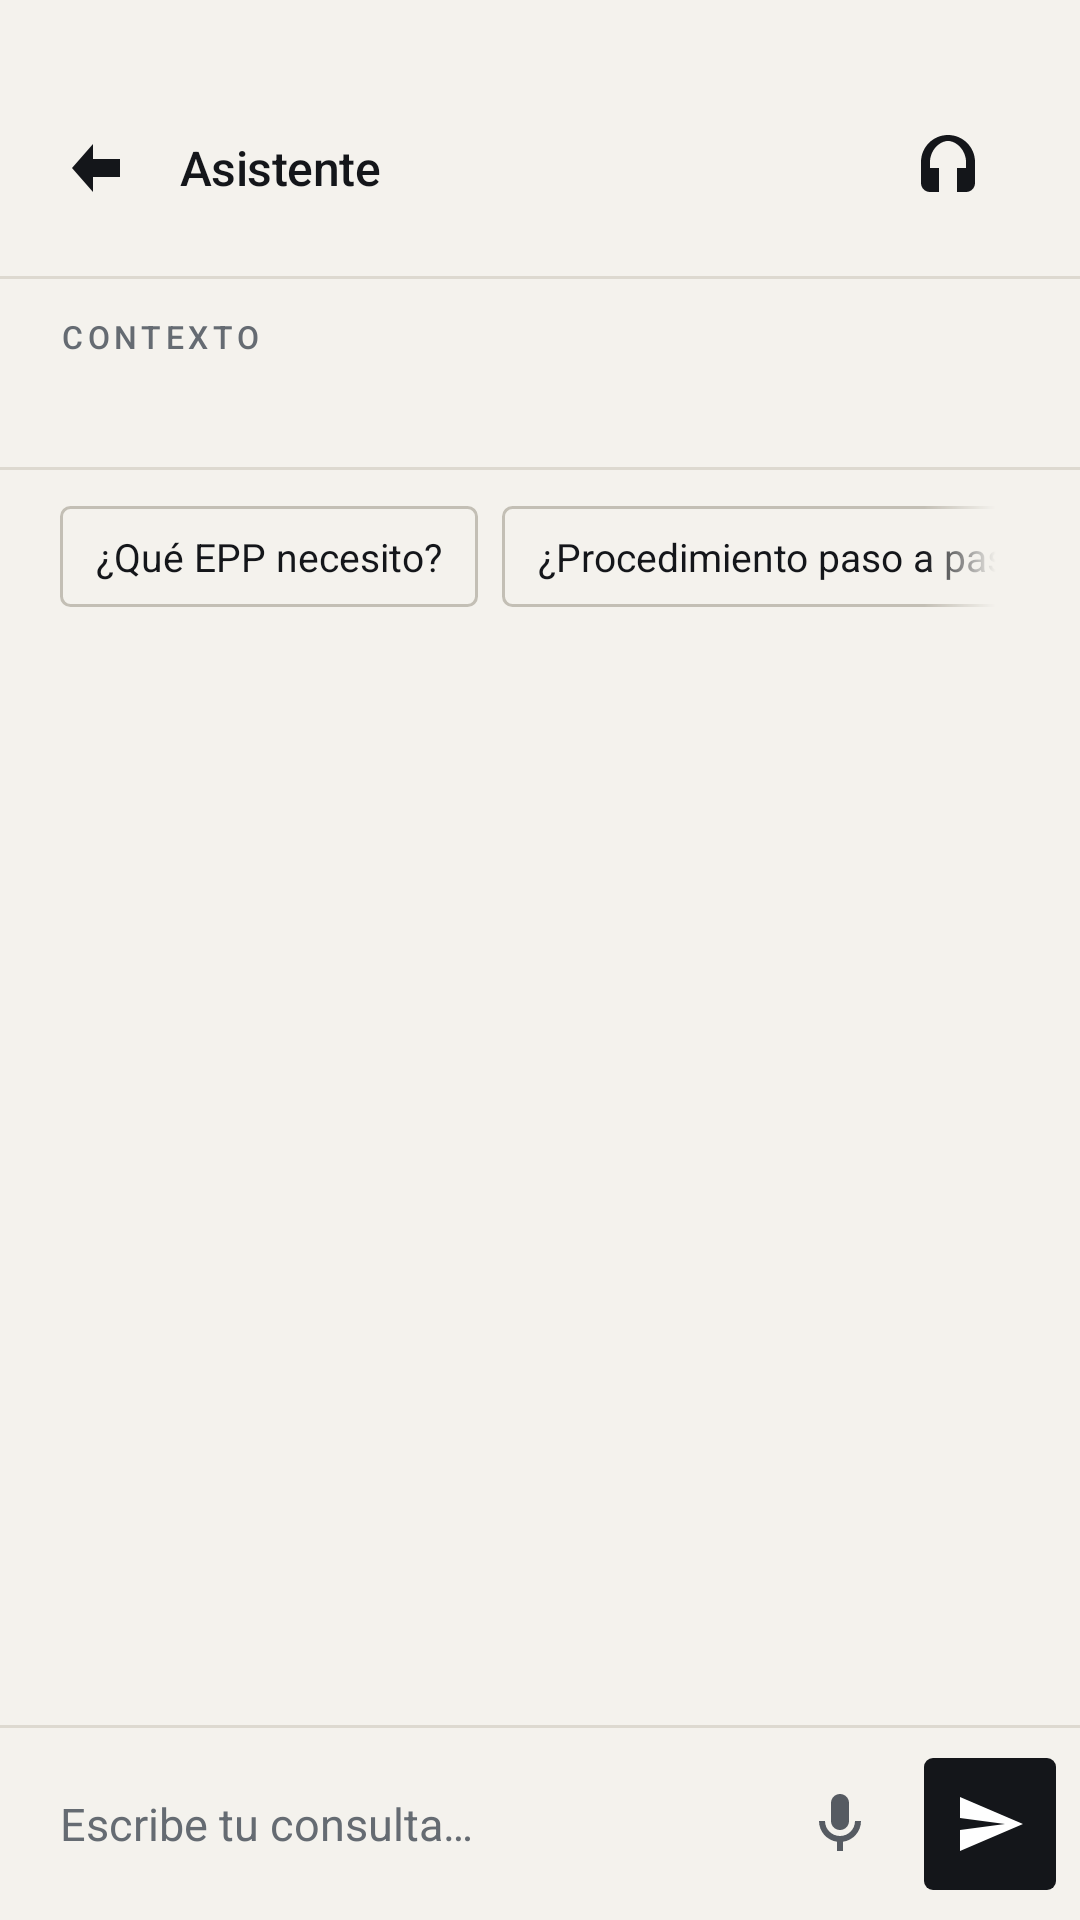

Locate icon controls on the screen. Image size 1080px×1920px, boxes as (left=x1, top=y1, right=x2, bottom=y2).
Dictar mensaje: (left=819, top=1794, right=861, bottom=1851)
Enviar mensaje: (left=924, top=1758, right=1056, bottom=1890)
Regresar: (left=72, top=144, right=120, bottom=192)
